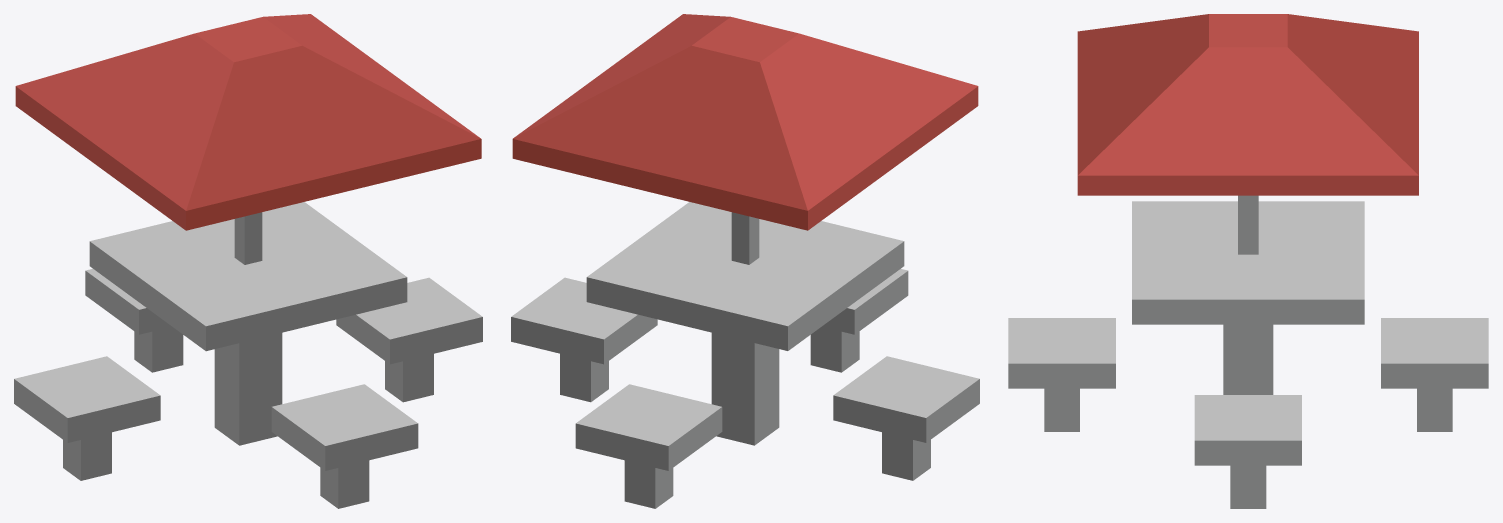
File: table_chairs.glb
3 views of the same model, side by side, from view 1: azimuth 30°, elevation 25°; view 2: azimuth 150°, elevation 25°; view 3: azimuth 270°, elevation 25° (orthographic).
Visible parts, largest first — view 1: table_chairs_mesh; view 2: table_chairs_mesh; view 3: table_chairs_mesh.
Part boxes in pixels (bbox=[...]): table_chairs_mesh: bbox=[14, 14, 482, 508]; table_chairs_mesh: bbox=[511, 14, 979, 508]; table_chairs_mesh: bbox=[1008, 14, 1488, 508].
Bounding box in the file's own units: 0.0447 × 0.0403 × 0.0447.
1 material, 1 textured.
